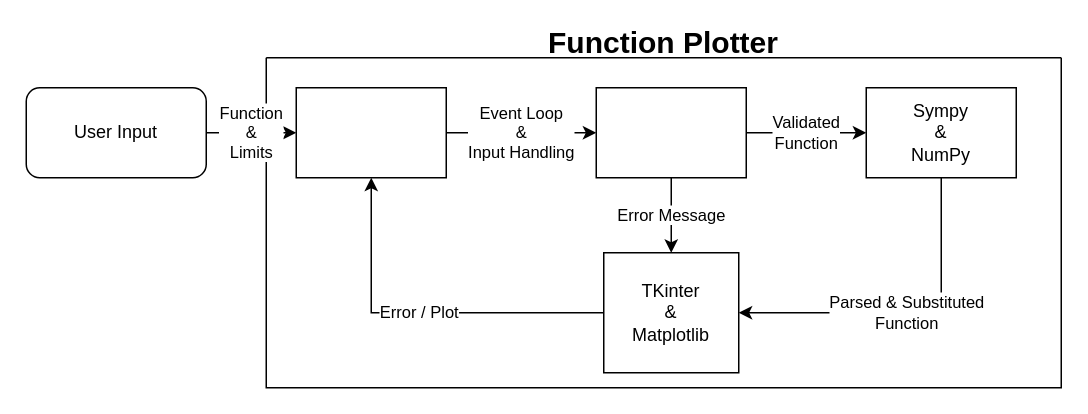
Image size: 1088x414. Some labels were removed from this diagram. The shapes that lost their labels are listed below. From the top down, each one's box as (x1, y1, x2, y2) in pixels, then its label:
(295, 86, 446, 178): PySimpleGUI
(595, 86, 746, 178): Validation Layer
